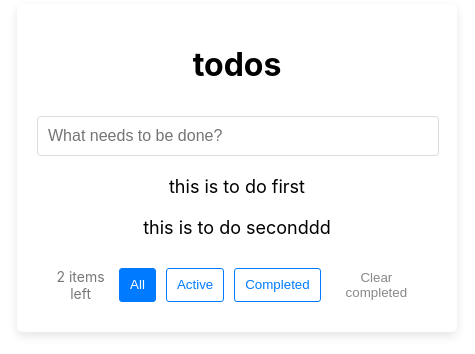
TodoApp › clears completed todos
Click the list item "this is to do first" at (237, 186), box [169,176,305,197]
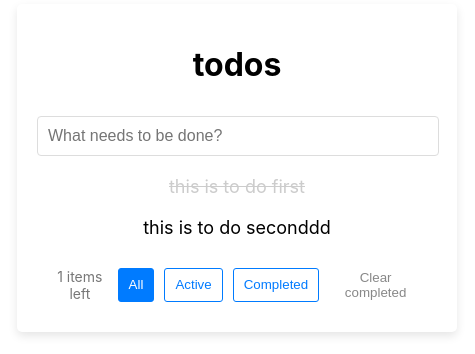
Click the button "Clear completed" at (376, 285), box [324,268,427,302]
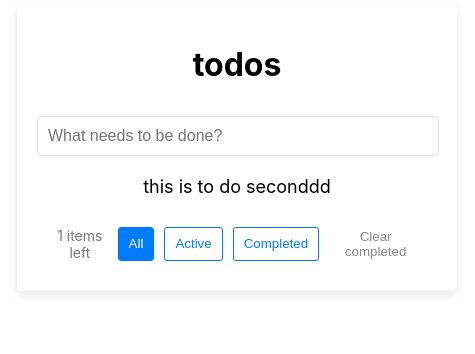
Expected: the list item "this is to do seconddd" is shown, [143,176,331,197]
Expected: the list item "this is to do first" is gone
